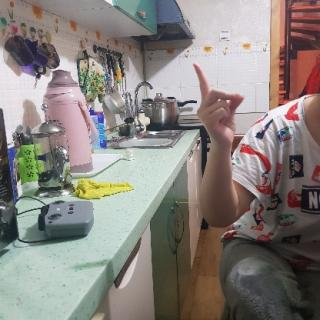TAA: (188, 60, 247, 151)
